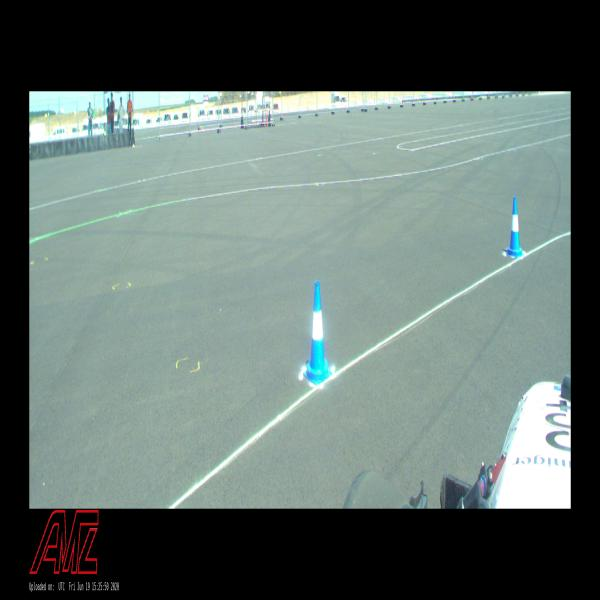blue_cone: (303, 281, 332, 386), (506, 197, 524, 258)
